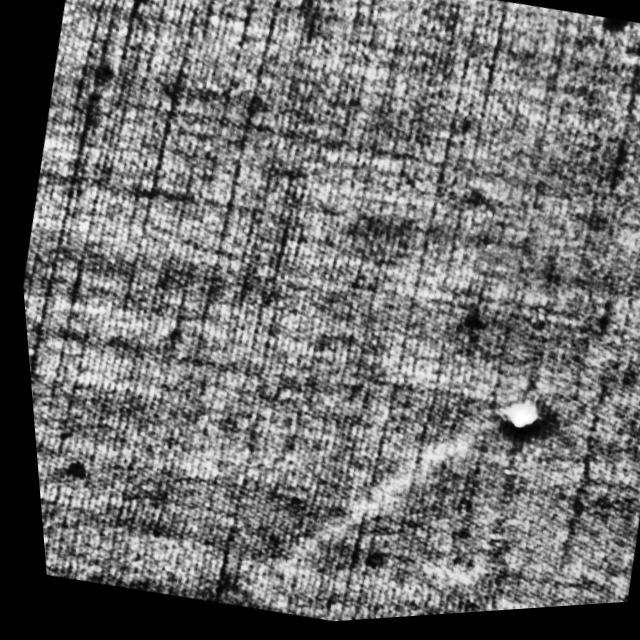Hole: (487, 399, 547, 447)
